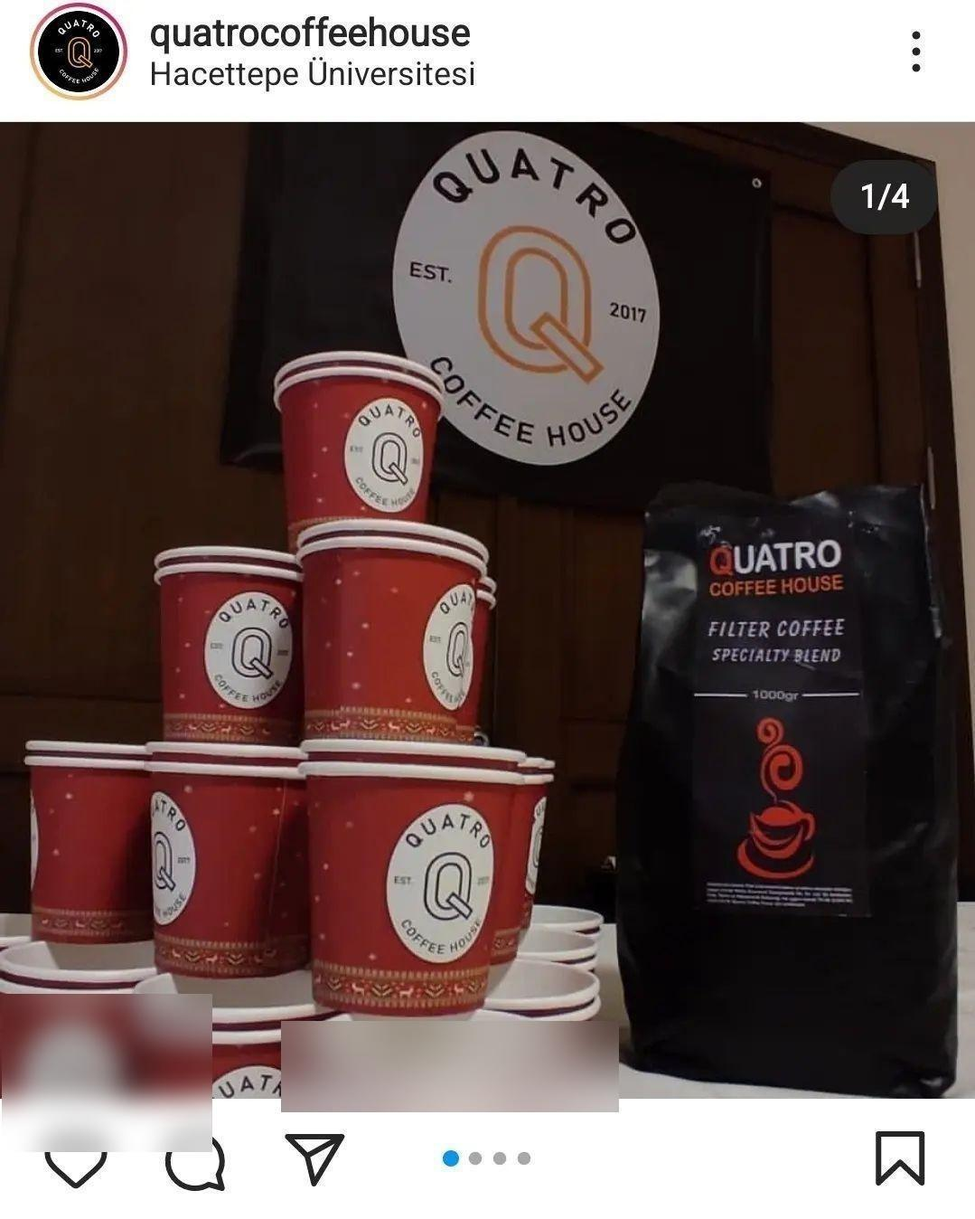cup-disposable: (294, 752, 529, 1015), (290, 515, 490, 744), (136, 735, 308, 983), (144, 537, 305, 749), (274, 346, 452, 537), (19, 729, 149, 956)
